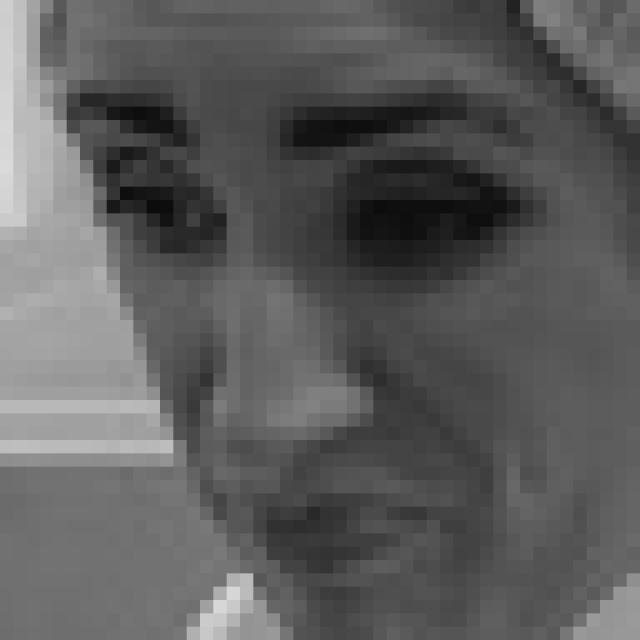disgust: (72, 75, 553, 608)
